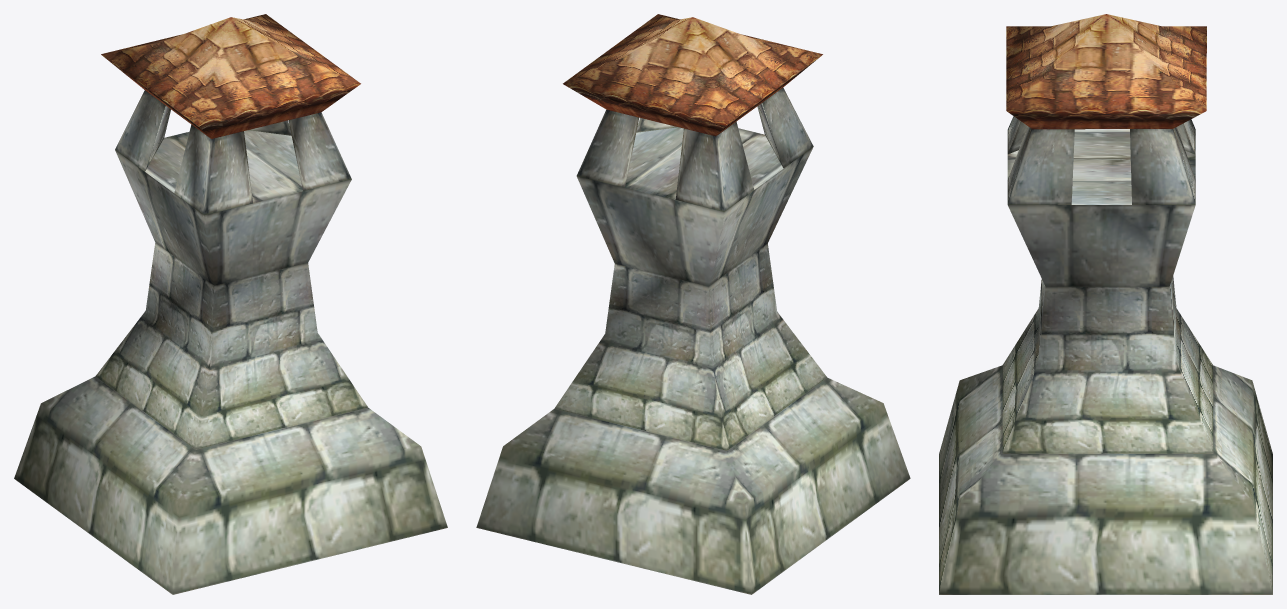
The model's file is stonepyre01.glb.
The picture shows the model from 3 angles, left to right: view 1: azimuth 30°, elevation 25°; view 2: azimuth 150°, elevation 25°; view 3: azimuth 270°, elevation 25°; orthographic projection. The views are drawn at different scales.
Bounding box in the file's own units: 4.2 × 7.09 × 4.2.
2 materials, 2 textured.
